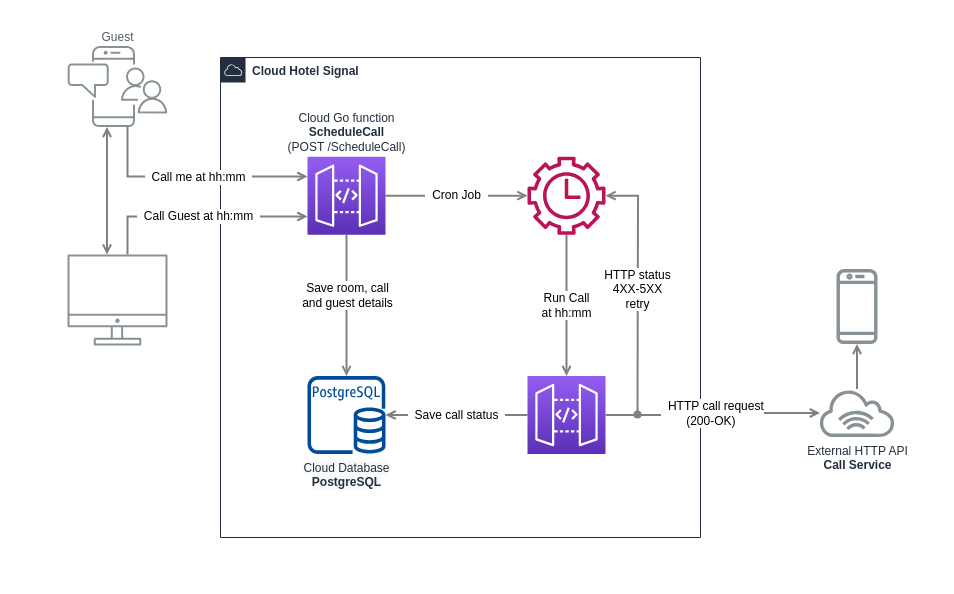
The diagram is 954 pixels wide and 594 high, and some of its shapes have lost their labels. Each missing label, with the centre of its shape:
"Cloud Go function CallRoom (GET /CallRoom)" goes at point 566,414.
"Cloud Scheduler" goes at point 566,195.
"Reception" goes at point 117,299.
